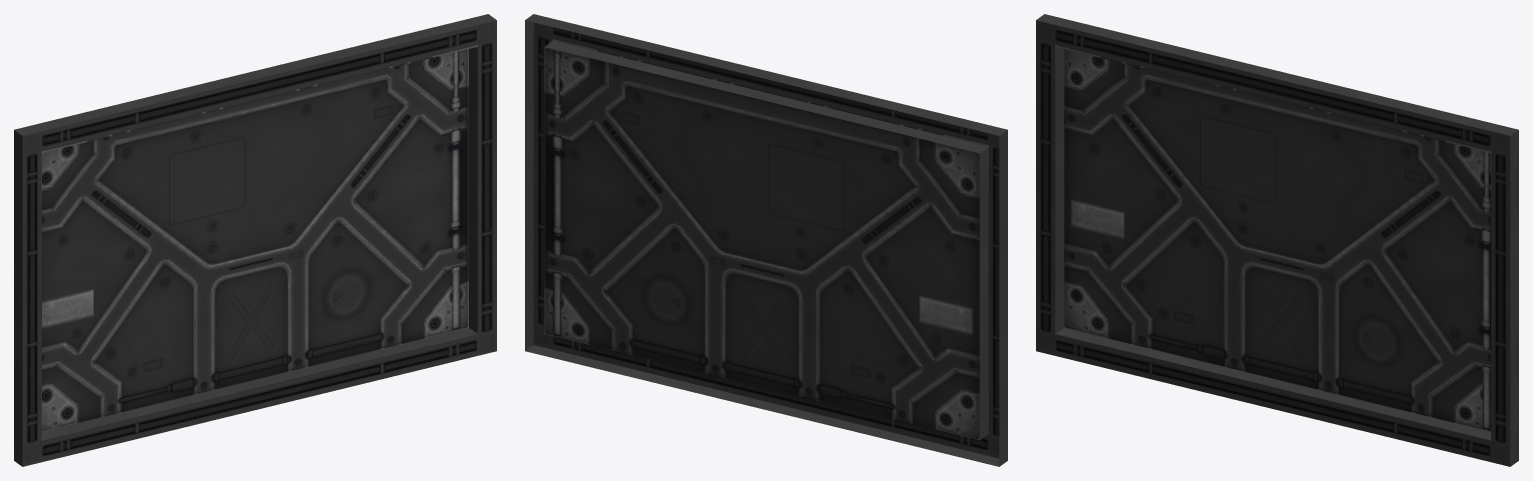
The model's file is Panel_C_1x1,5_1_L3.FBX.
The picture shows the model from 3 angles, left to right: view 1: azimuth 30°, elevation 25°; view 2: azimuth 150°, elevation 25°; view 3: azimuth 330°, elevation 25°; orthographic projection.
Parts seen in each view (by area): view 1: Panel_C_1x1,5_1_L3; view 2: Panel_C_1x1,5_1_L3; view 3: Panel_C_1x1,5_1_L3.
Part boxes in pixels (left/top/right/bottom): Panel_C_1x1,5_1_L3: left=14, top=14, right=496, bottom=466; Panel_C_1x1,5_1_L3: left=525, top=14, right=1007, bottom=466; Panel_C_1x1,5_1_L3: left=1036, top=14, right=1518, bottom=466.
Size of the model in its own units: 150 by 100 by 4.67.
